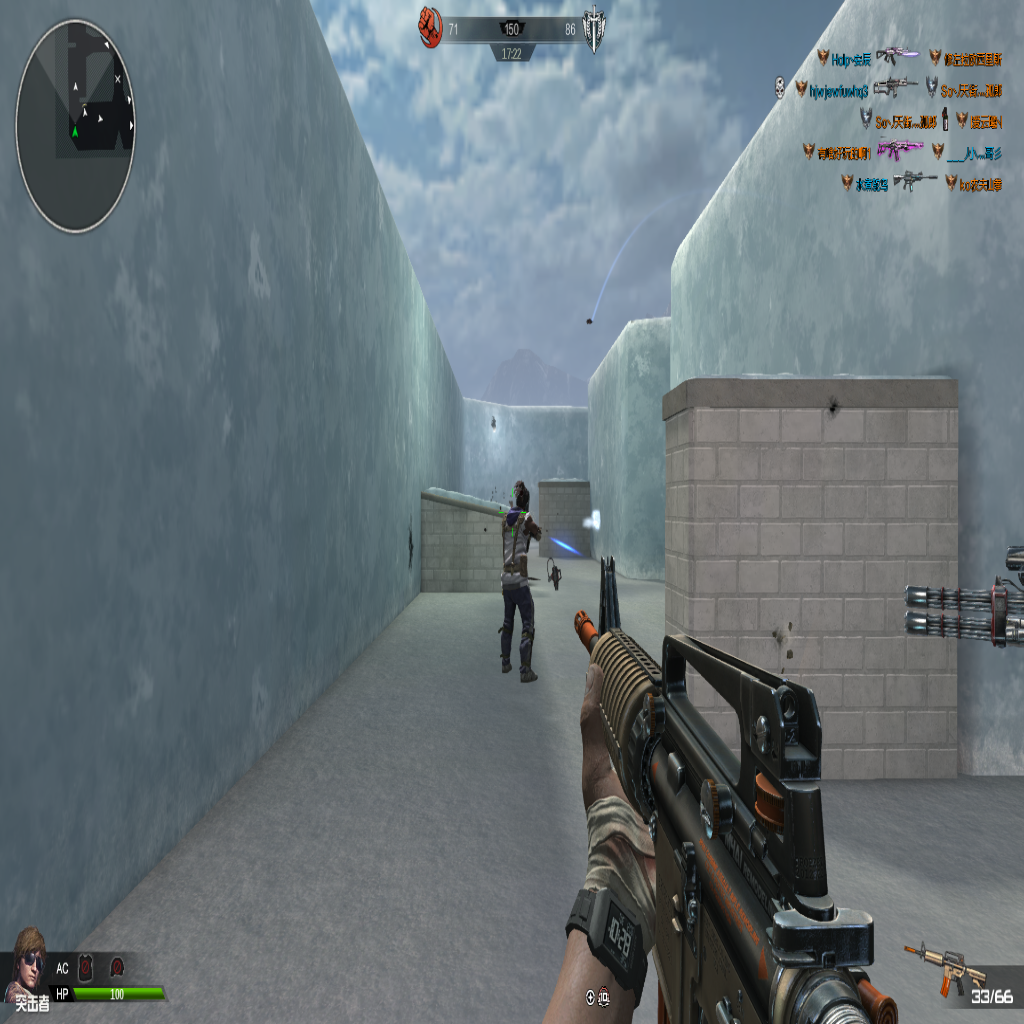tt: (497, 472, 546, 686)
